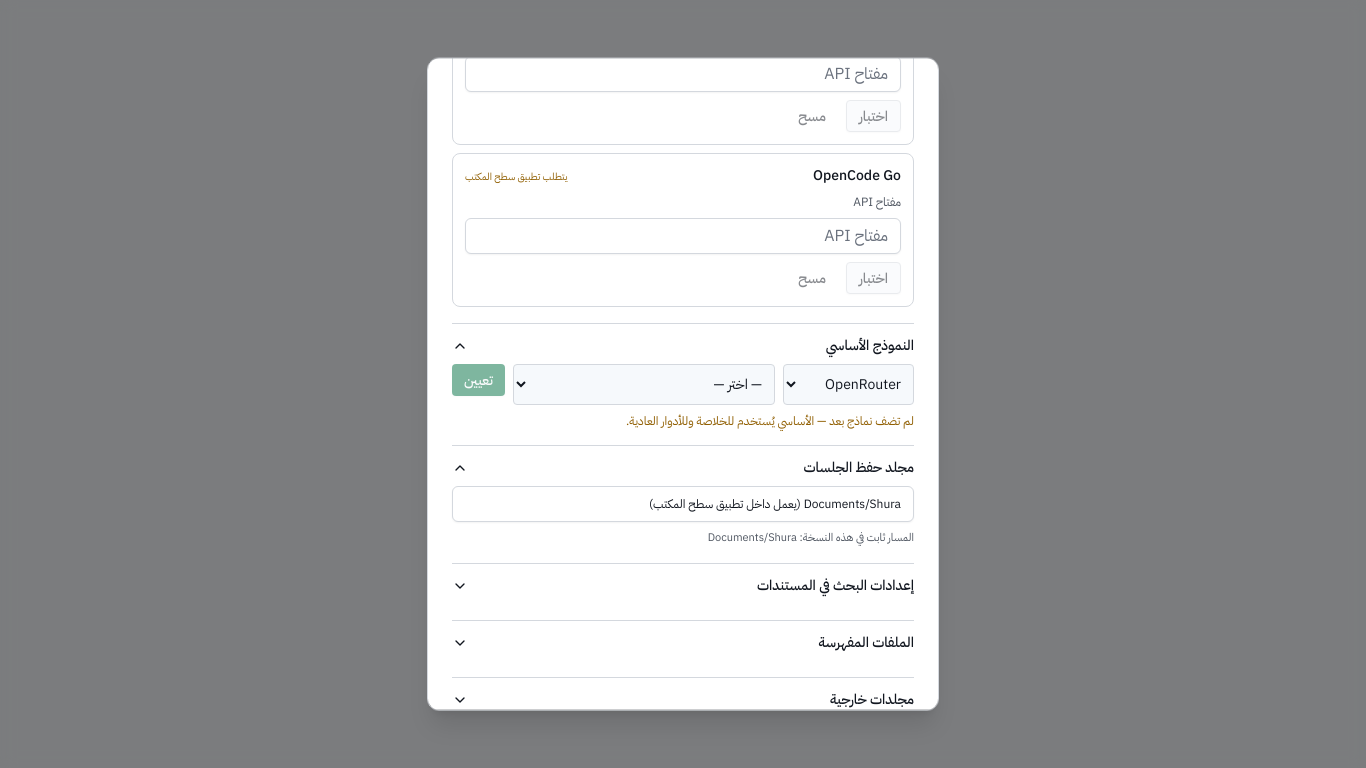
it: SettingsScreen › تغيير المزود يصفّر اختيار النموذج فلا تُحفظ زوجة مزود/موديل غير صالحة
(page scrolled)
Select "GPT-4o" in the dropdown named "نموذج الموديل الأساسي": {"x": 644, "y": 384} [513,364,775,405]
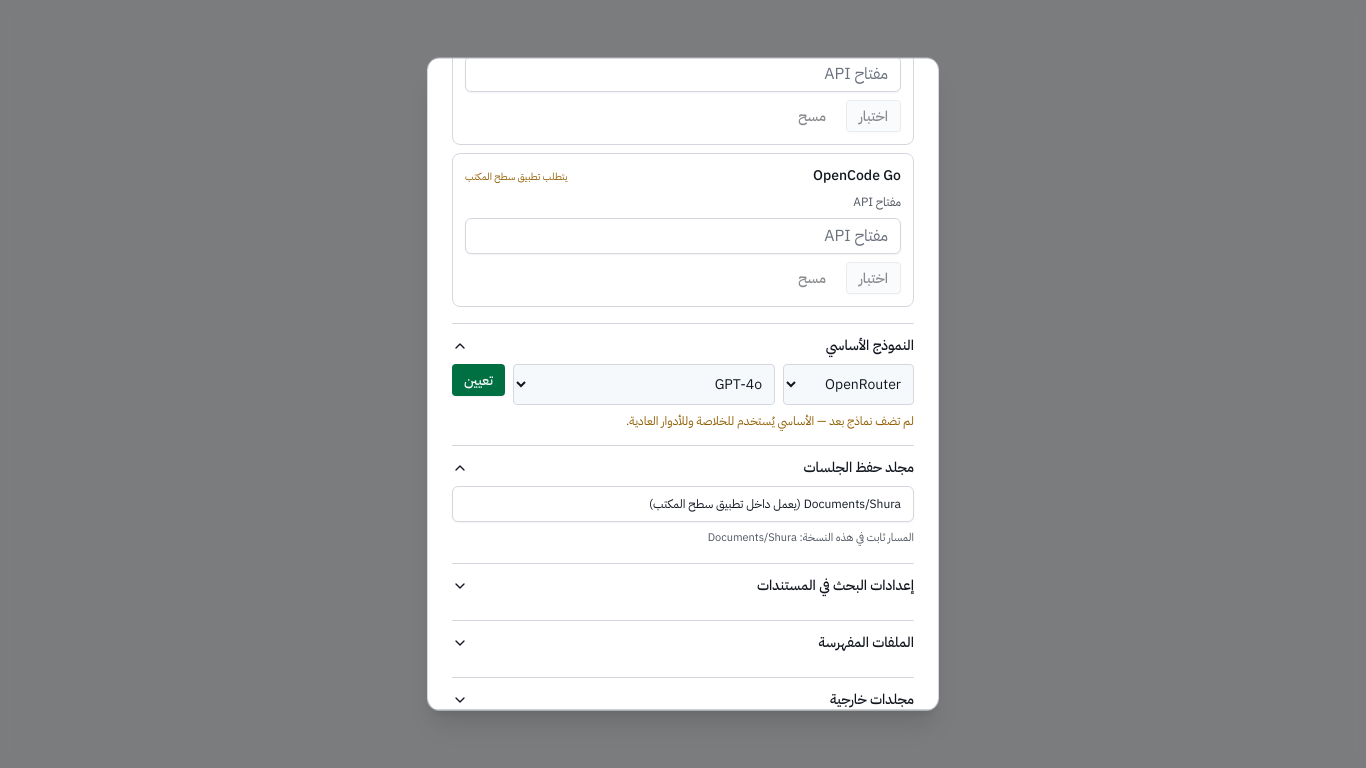
Select "Google Gemini" in the dropdown named "مزود النموذج الأساسي": {"x": 848, "y": 384} [783,364,914,405]
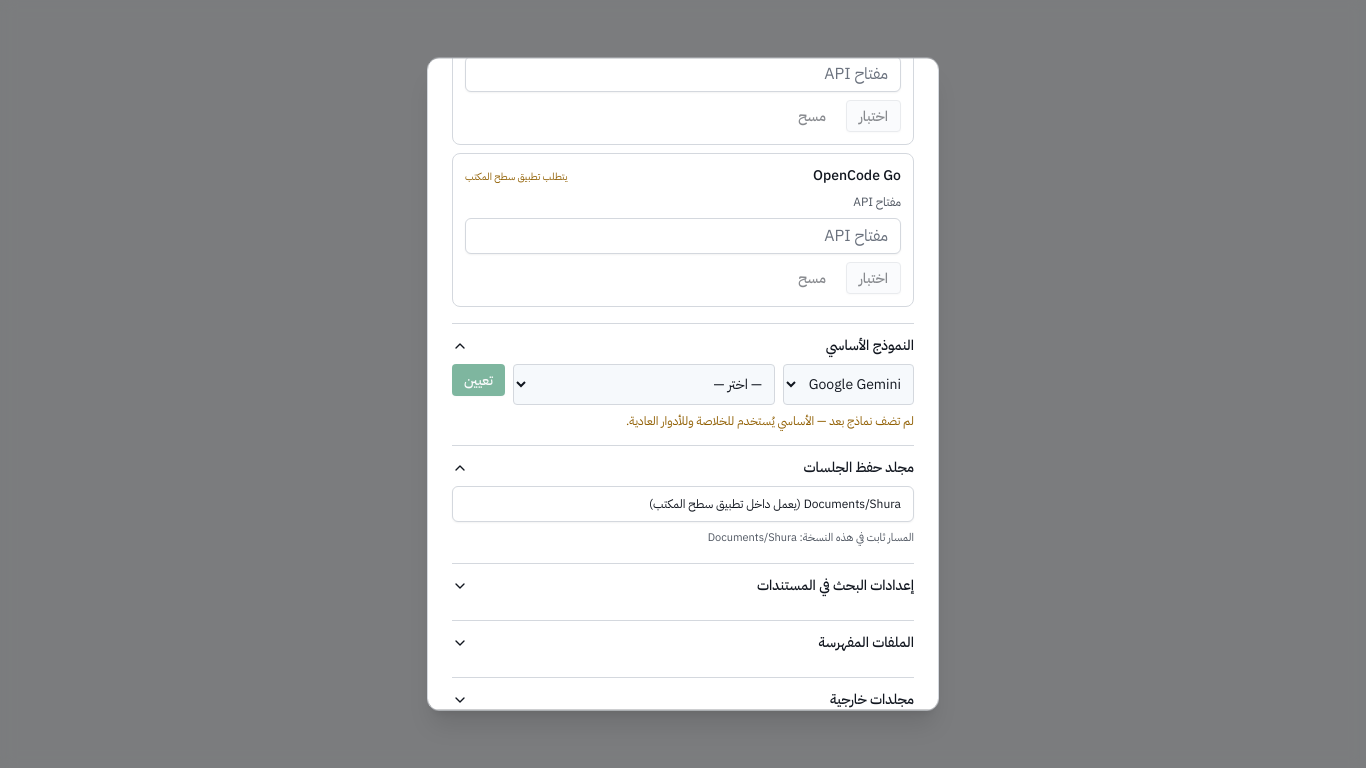
Now the button "تعيين" is disabled, box [452,364,505,396]
